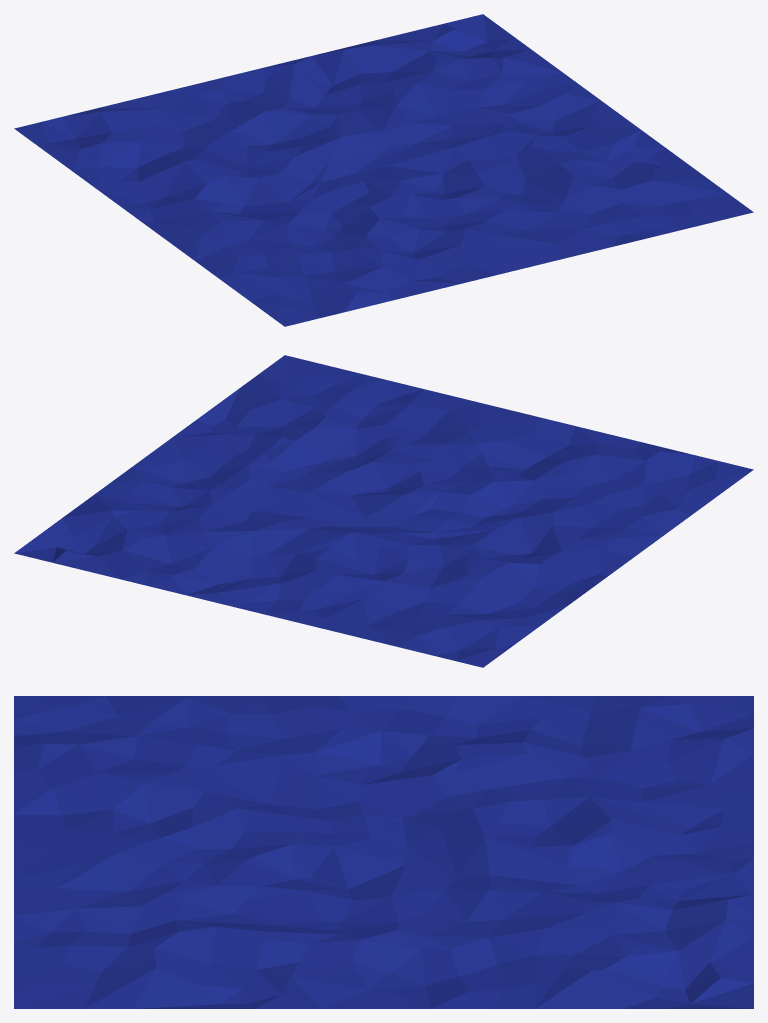
Rendered from WaterTop.glb.
The picture shows the model from 3 angles, top to bottom: view 1: azimuth 30°, elevation 25°; view 2: azimuth 150°, elevation 25°; view 3: azimuth 270°, elevation 25°; orthographic projection. The views are drawn at different scales.
Visible parts, largest first — view 1: Water_Cell; view 2: Water_Cell; view 3: Water_Cell.
Part boxes in pixels (bbox=[...]): Water_Cell: bbox=[14, 14, 753, 326]; Water_Cell: bbox=[14, 355, 753, 667]; Water_Cell: bbox=[14, 696, 753, 1008].
Size of the model in its own units: 1.8 by 0.0623 by 1.8.
